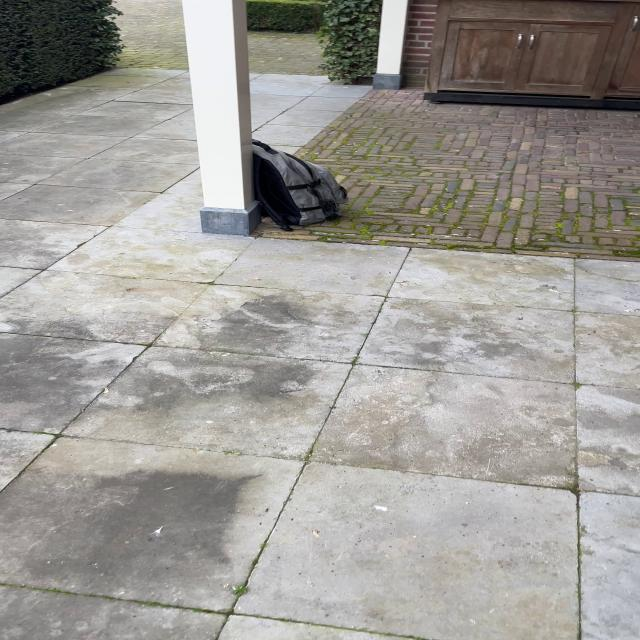backpack: (240, 138, 352, 233)
